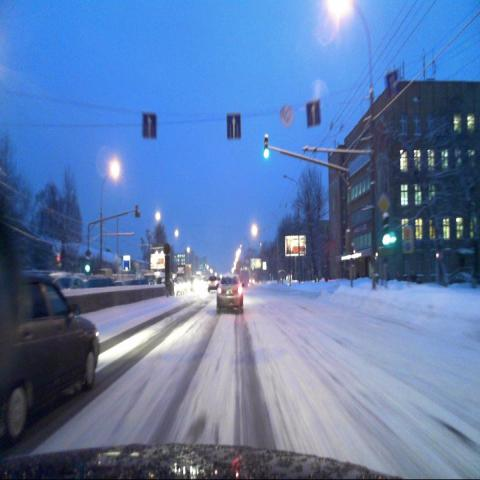5_15_2: (306, 100, 320, 125)
